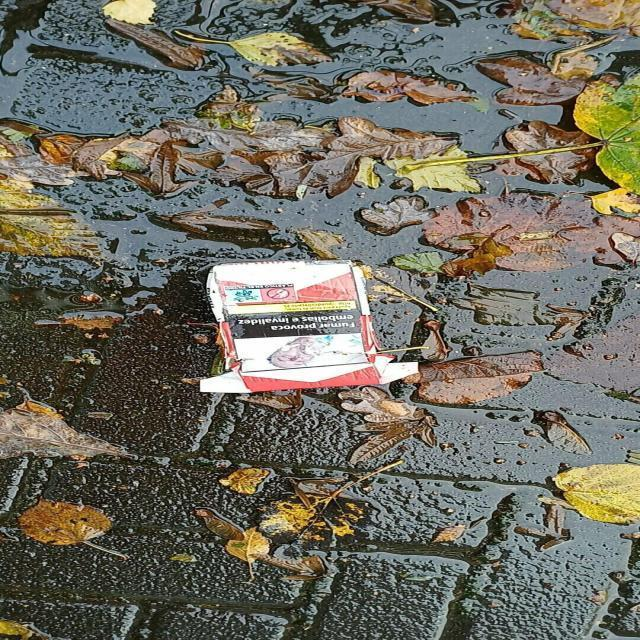Paper: (190, 256, 424, 396)
